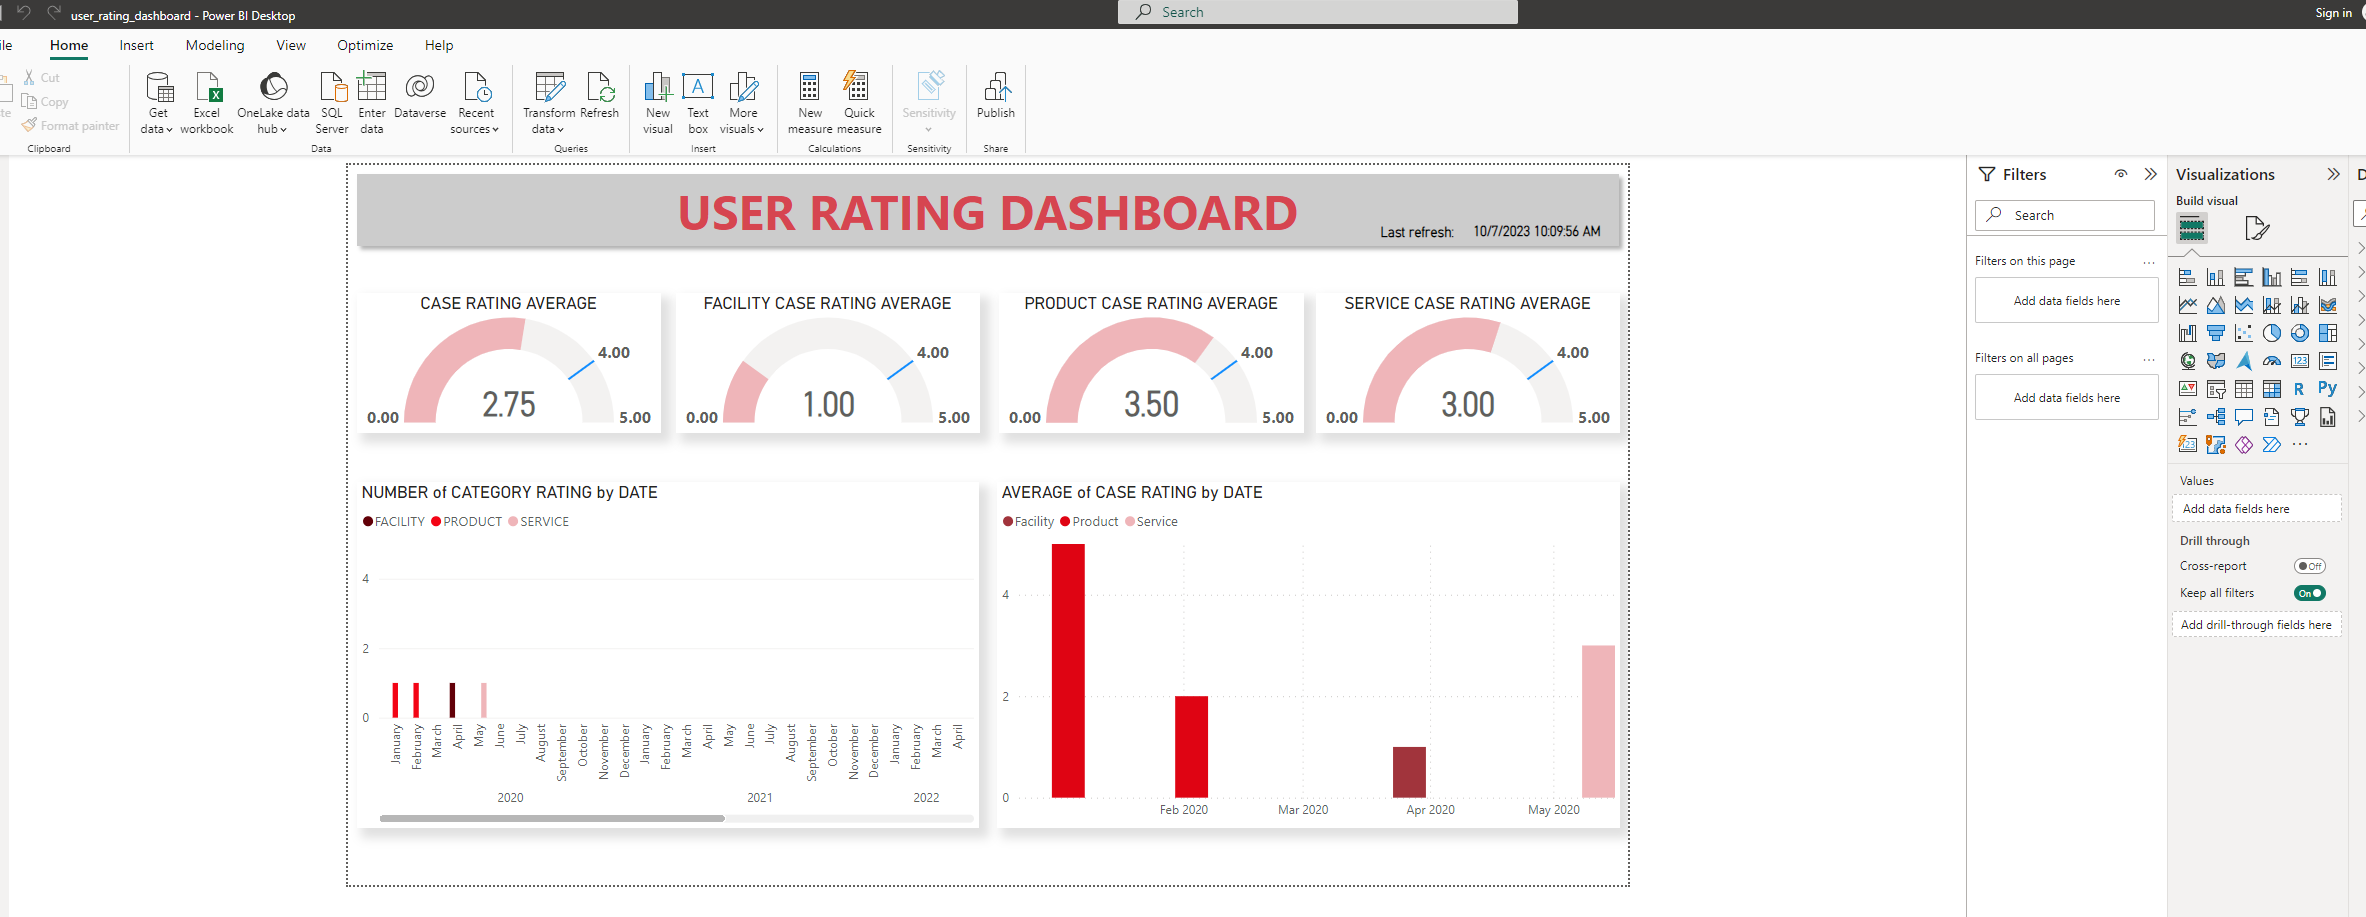

The page's visual inventory and layout, read from the dashboard file:
{"tool":"powerbi","page":{"name":"Page 1","canvas":[1280,720],"ordinal":0},"visuals":[{"type":"shape","box":[0,0,1280,90],"z":0},{"type":"gauge","title":"CASE RATING AVERAGE","fields":{"Y":["Avg(report USER_RATING_FACT.CASE_RATING)"]},"box":[8.9,127.9,304.4,140],"z":1000},{"type":"card","fields":{"Values":["Min(report USER_RATING_FACT.LAST_EXECUTED_AT)"]},"box":[1097.8,53.3,182.2,27.8],"z":4000},{"type":"textbox","box":[1027.8,53.3,102.2,35.6],"z":5000},{"type":"gauge","title":"FACILITY CASE RATING AVERAGE","fields":{"Y":["Avg(report USER_RATING_FACT.CASE_RATING)"]},"box":[327.8,127.9,304.4,140],"z":5001},{"type":"gauge","title":"PRODUCT CASE RATING AVERAGE","fields":{"Y":["Avg(report USER_RATING_FACT.CASE_RATING)"]},"box":[651.1,127.9,304.4,140],"z":5002},{"type":"gauge","title":"SERVICE CASE RATING AVERAGE","fields":{"Y":["Avg(report USER_RATING_FACT.CASE_RATING)"]},"box":[967.8,127.9,304.4,140],"z":5003},{"type":"clusteredColumnChart","title":"NUMBER of CATEGORY RATING by DATE","fields":{"Y":["Sum(report USER_RATING_CATEGORY.FACILITY)","Sum(report USER_RATING_CATEGORY.PRODUCT)","Sum(report USER_RATING_CATEGORY.SERVICE)"],"Category":["report CALENDAR_DIM.DATE.Variation.Date Hierarchy.Year","report CALENDAR_DIM.DATE.Variation.Date Hierarchy.Month"]},"box":[8.9,316.7,622.2,346.7],"z":5004},{"type":"clusteredColumnChart","title":"AVERAGE of CASE RATING by DATE","fields":{"Y":["Avg(report USER_RATING_FACT.CASE_RATING)"],"Category":["report CALENDAR_DIM.DATE.Variation.Date Hierarchy.Year"],"Series":["report CASE_CATEGORY_DIM.CASE_CATEGORY_1_NAME"]},"box":[648.9,316.7,623.3,346.7],"z":5005}]}

Visuals, with their boxes on the page's 1280x720 design canvas (x1, y1, x2, y2). These are canvas units, not pixel positions in the 2366x917 screenshot, which may show the page scaled, cropped or inside an application window:
shape: [0,0,1280,90]
"CASE RATING AVERAGE" gauge: [9,128,313,268]
card - Min(report USER_RATING_FACT.LAST_EXECUTED_AT): [1098,53,1280,81]
textbox: [1028,53,1130,89]
"FACILITY CASE RATING AVERAGE" gauge: [328,128,632,268]
"PRODUCT CASE RATING AVERAGE" gauge: [651,128,956,268]
"SERVICE CASE RATING AVERAGE" gauge: [968,128,1272,268]
"NUMBER of CATEGORY RATING by DATE" clusteredColumnChart: [9,317,631,663]
"AVERAGE of CASE RATING by DATE" clusteredColumnChart: [649,317,1272,663]
